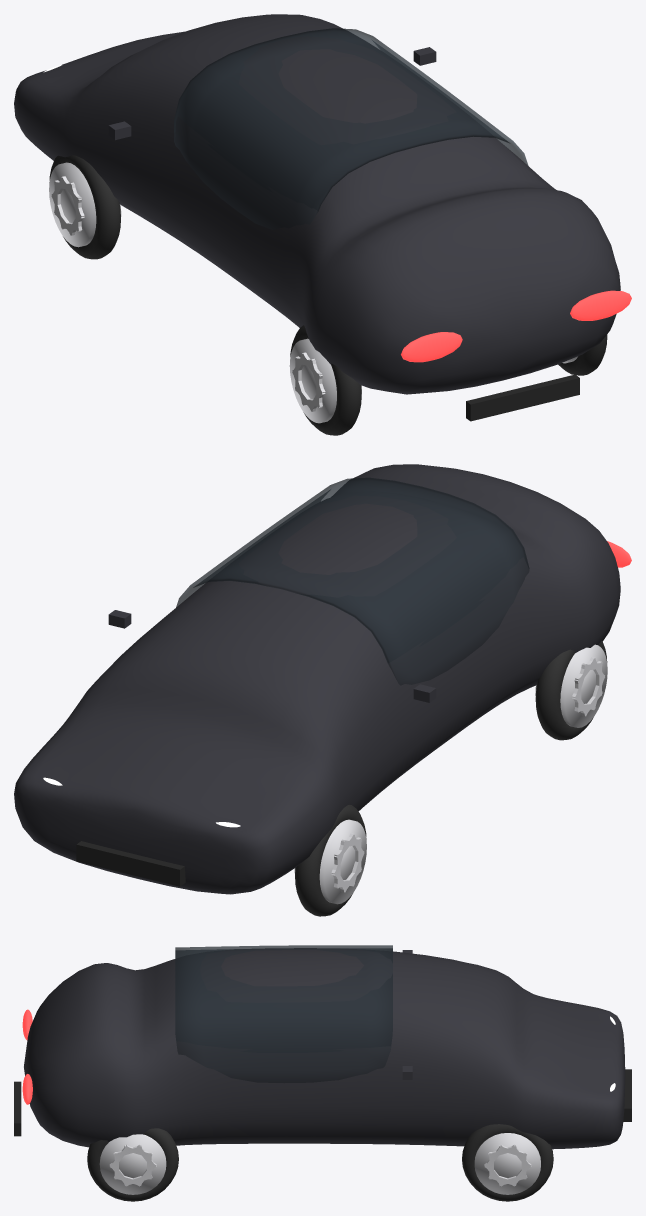
The model's file is volkswagen_golf_r_2010.glb.
3 views of the same model, one above another, from view 1: azimuth 30°, elevation 25°; view 2: azimuth 150°, elevation 25°; view 3: azimuth 270°, elevation 25° (orthographic). The views are drawn at different scales.
Parts seen in each view (by area): view 1: Body, Glass, Tyre_FR, Diffuser, Rim_FR, Rim_RR, Tyre_RR, Taillight_R, Taillight_L, Tyre_RL; view 2: Body, Glass, FrontIntake, Tyre_RR, Rim_FR, Tyre_FR, Rim_RR; view 3: Body, Glass, Rim_FL, Rim_RL, Tyre_FL, Tyre_RL, Diffuser, FrontIntake.
Part boxes in pixels (<box>): Body: <box>14,14,620,394</box>; Glass: <box>174,28,528,229</box>; Tyre_FR: <box>49,155,120,259</box>; Diffuser: <box>466,374,579,421</box>; Rim_FR: <box>49,162,121,247</box>; Rim_RR: <box>289,338,361,423</box>; Tyre_RR: <box>290,325,361,435</box>; Taillight_R: <box>401,332,462,362</box>; Taillight_L: <box>570,290,631,320</box>; Tyre_RL: <box>558,334,607,375</box>; Body: <box>14,464,620,894</box>; Glass: <box>176,477,529,685</box>; FrontIntake: <box>76,841,185,886</box>; Tyre_RR: <box>535,641,607,740</box>; Rim_FR: <box>294,819,366,904</box>; Tyre_FR: <box>295,805,366,916</box>; Rim_RR: <box>535,644,607,727</box>; Body: <box>24,948,625,1149</box>; Glass: <box>175,945,392,1082</box>; Rim_FL: <box>474,1133,540,1194</box>; Rim_RL: <box>99,1134,166,1194</box>; Tyre_FL: <box>462,1124,553,1201</box>; Tyre_RL: <box>87,1128,178,1201</box>; Diffuser: <box>14,1081,21,1136</box>; FrontIntake: <box>623,1069,631,1121</box>.
Bounding box in the file's own units: 1.99 × 1.45 × 4.26.
